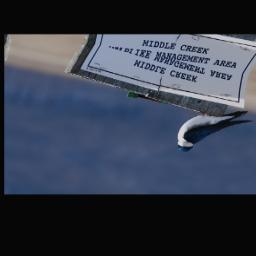Swallow: (169, 100, 255, 164)
